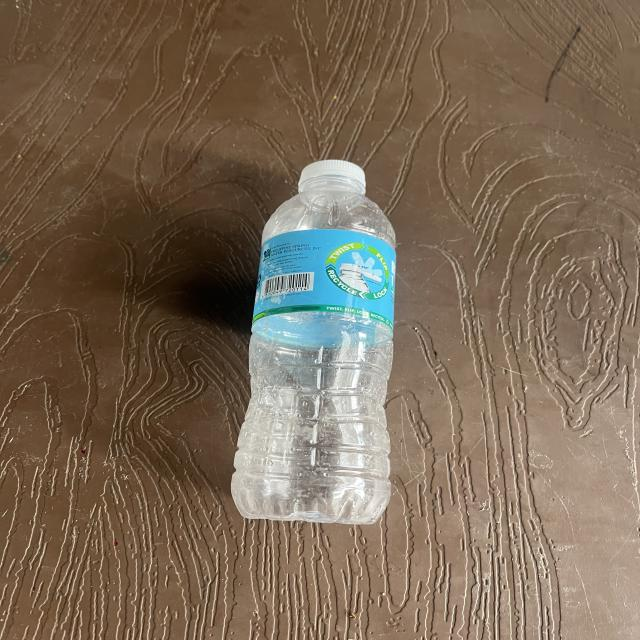REJECT: (219, 158, 569, 541)
